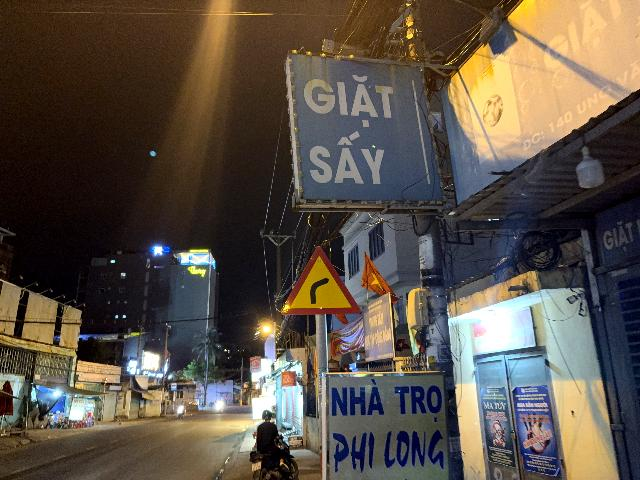cho-ngoat-nguy-hiem-ben-phai: (281, 244, 363, 315)
